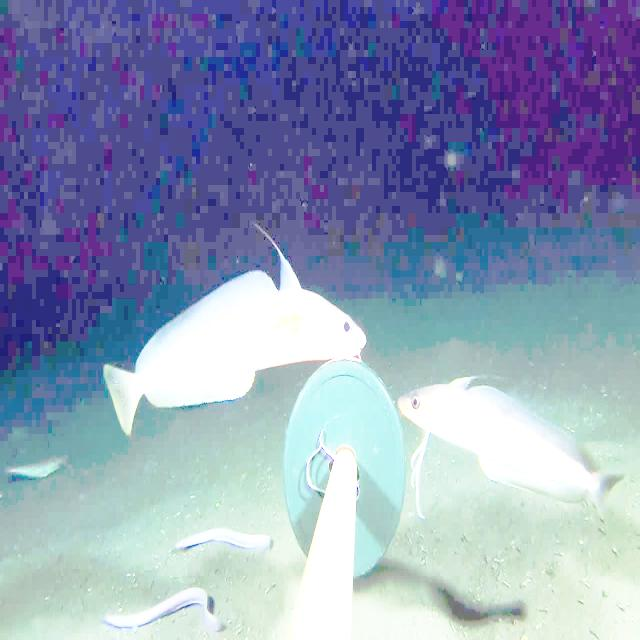eel: (97, 577, 235, 639), (163, 502, 279, 568)
fish: (81, 185, 373, 451), (396, 356, 622, 516), (7, 443, 75, 496)
pole: (273, 360, 403, 639)
